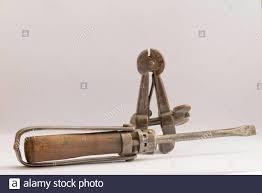screwdriver: (24, 123, 256, 163)
